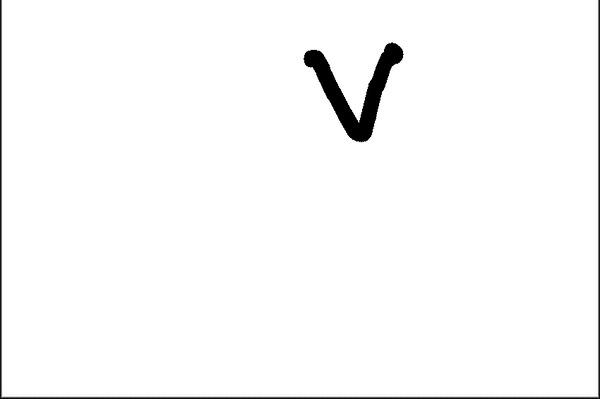V: (293, 32, 420, 140)
